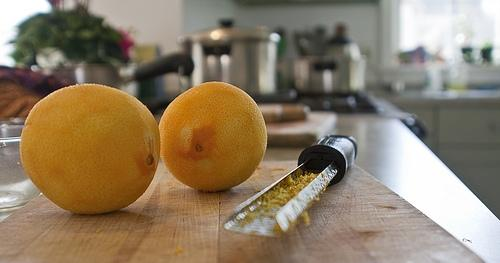orange: (20, 83, 160, 215), (157, 82, 267, 192)
